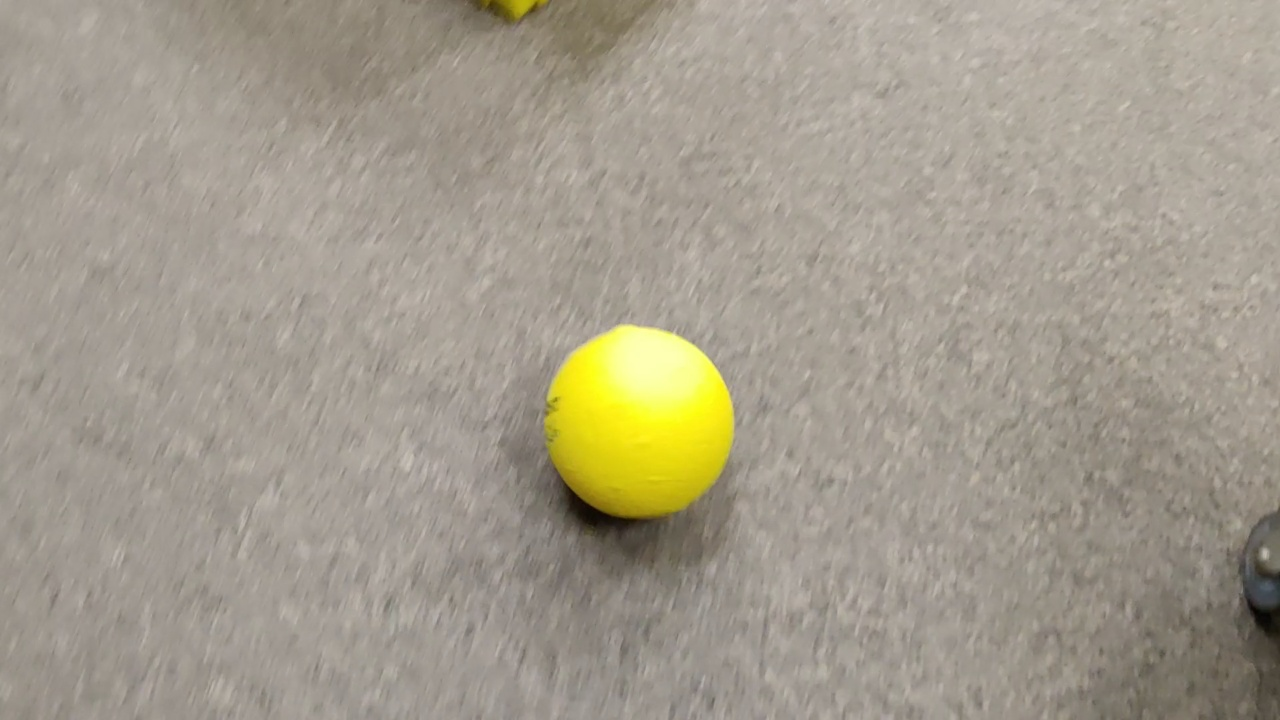Ball: (545, 326, 725, 522)
